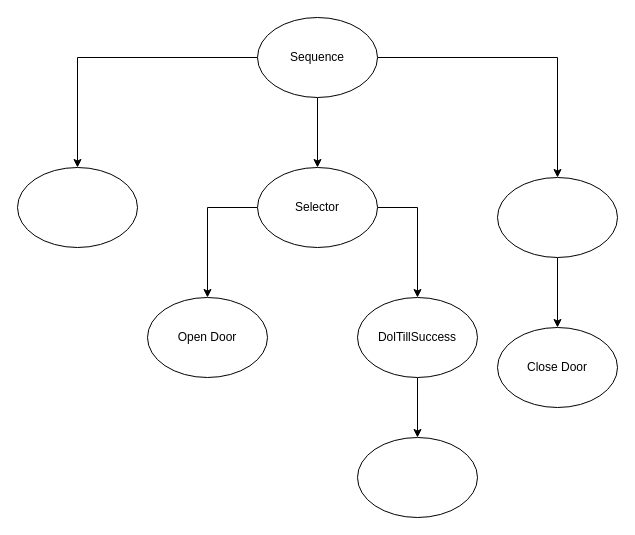
The diagram is 635 pixels wide and 535 high, and some of its shapes have lost their labels. The centre of each missing label's shape, as x and y in pixels:
Smash Door: the point at 417,477
Succeder: the point at 557,217
Walk to the Door: the point at 77,207
